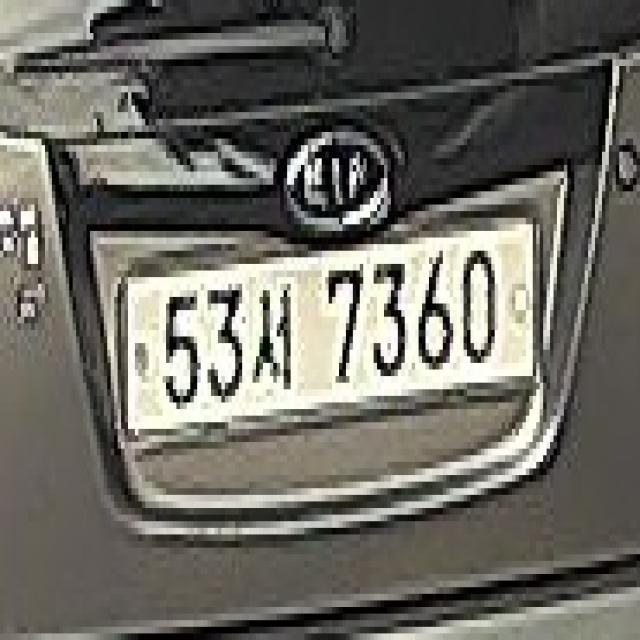0: (456, 251, 502, 376)
3: (201, 277, 249, 422), (370, 251, 412, 396)
5: (152, 270, 201, 416)
6: (415, 231, 453, 396)
7: (311, 251, 367, 389)
license_plate: (117, 198, 554, 462)
seo: (245, 277, 298, 389)
